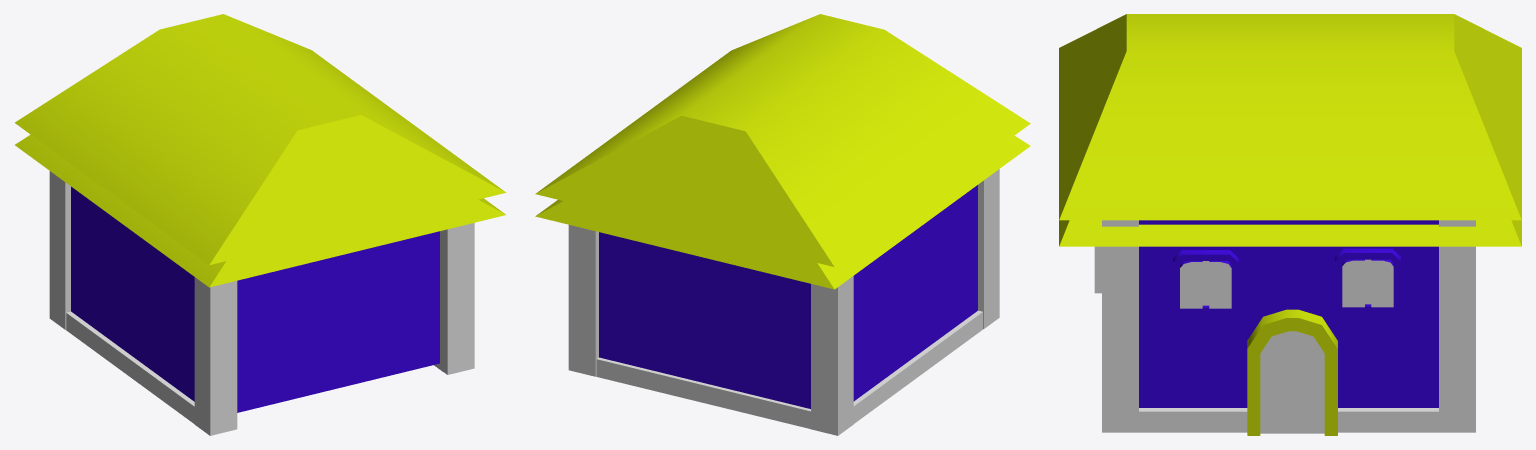
Rendered from housetype3test2.fbx.
The picture shows the model from 3 angles, left to right: view 1: azimuth 30°, elevation 25°; view 2: azimuth 150°, elevation 25°; view 3: azimuth 270°, elevation 25°; orthographic projection. The views are drawn at different scales.
Visible parts, largest first — view 1: Cube.049; view 2: Cube.049; view 3: Cube.049.
Part boxes in pixels (bbox=[...]): Cube.049: bbox=[15, 14, 506, 435]; Cube.049: bbox=[535, 14, 1030, 435]; Cube.049: bbox=[1059, 14, 1521, 435].
Size of the model in its own units: 2.34 by 2.05 by 2.66.
